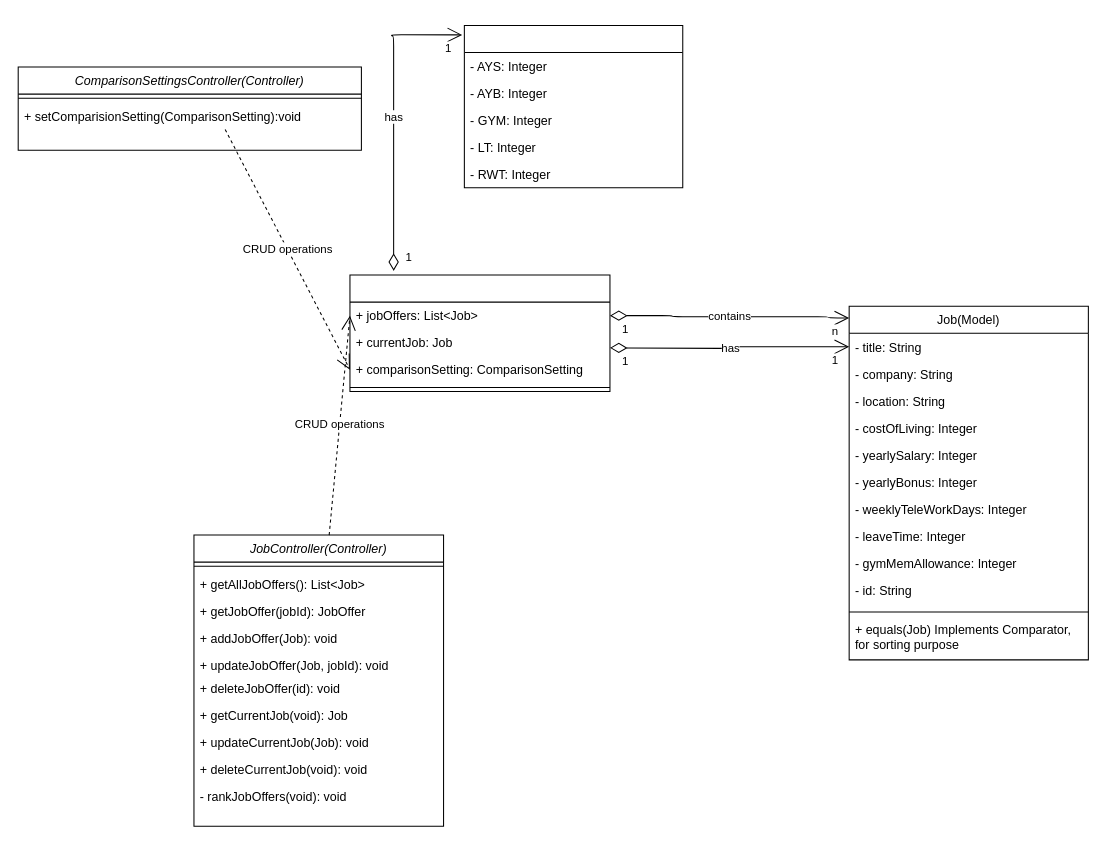
This 1107x844 diagram has some shape labels left out. Each missing label, with the box of its shape:
ComparisonSetting(Model): (463, 24, 683, 188)
DataCenter(DAO): (349, 274, 610, 392)
